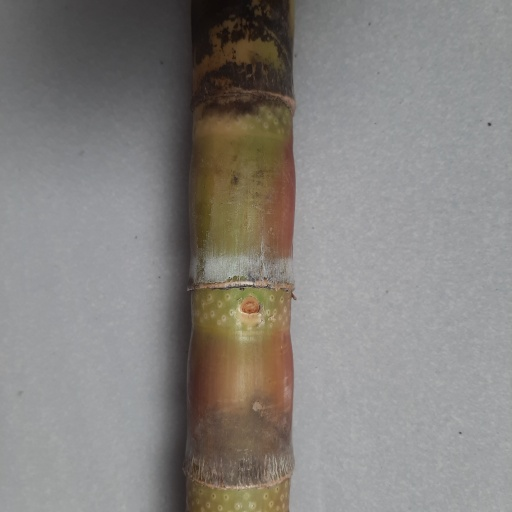Damage_Bud: (239, 297, 261, 315)
